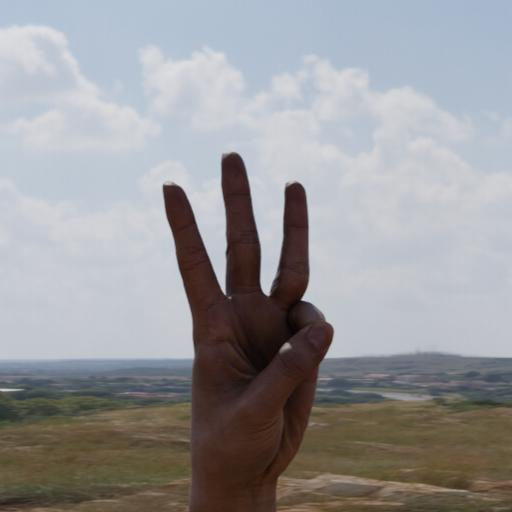W: (152, 146, 367, 498)
